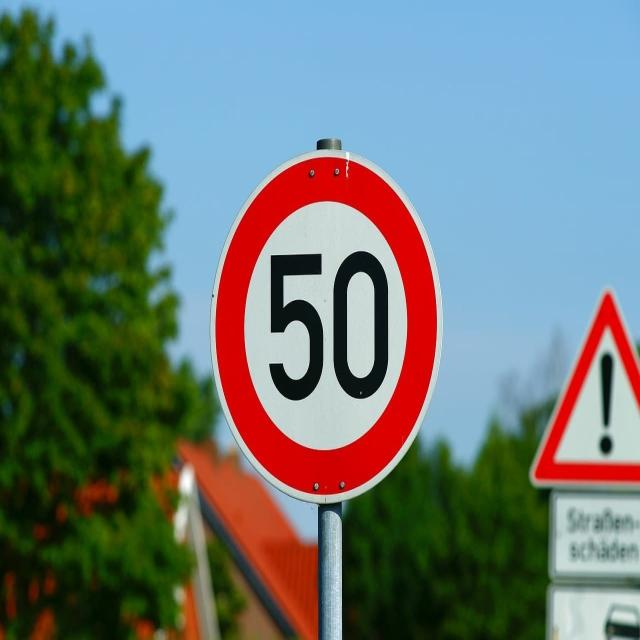Speed Limit -50-: (262, 245, 391, 406)
